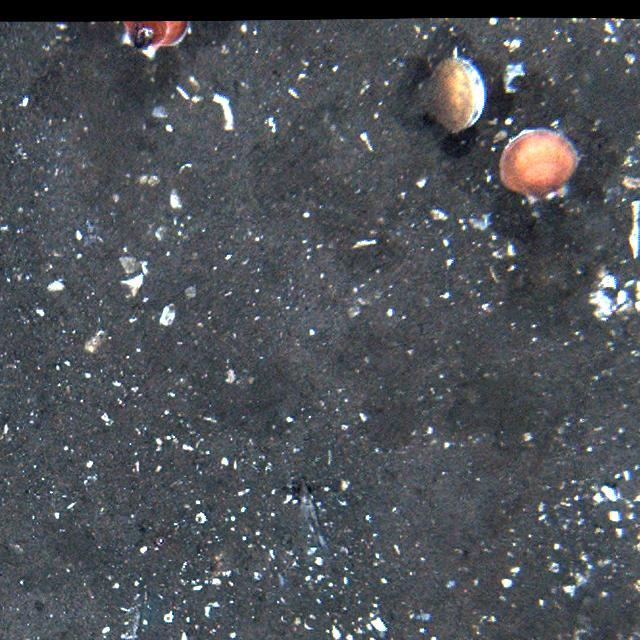scallop: (416, 54, 490, 137), (504, 126, 574, 200)
